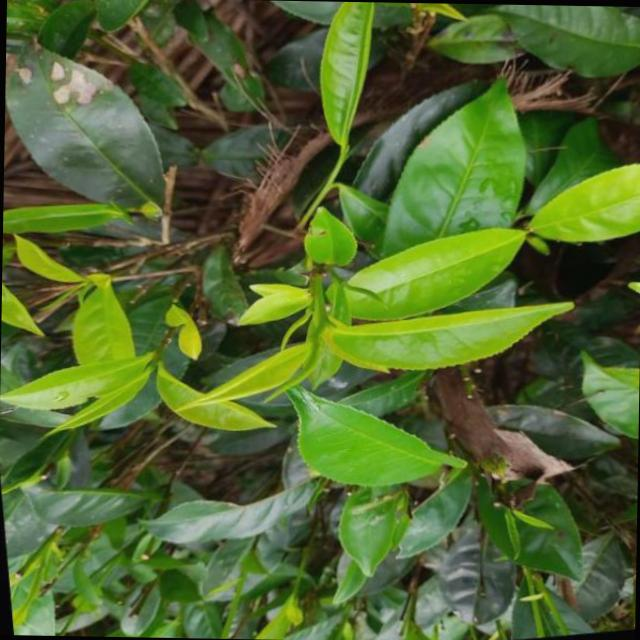Stem: (311, 309, 325, 321)
